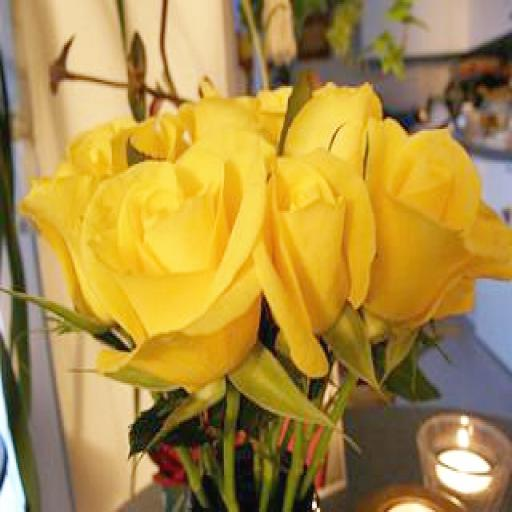rose: (21, 94, 261, 385), (269, 92, 512, 377)
